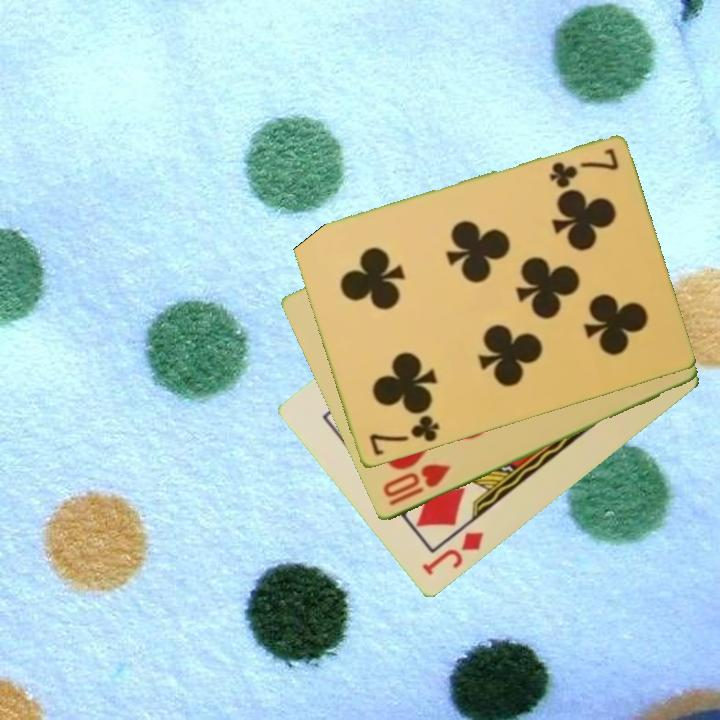10h: (379, 460, 454, 510)
7c: (365, 412, 442, 459), (546, 145, 621, 191)
Jd: (418, 528, 487, 579)
